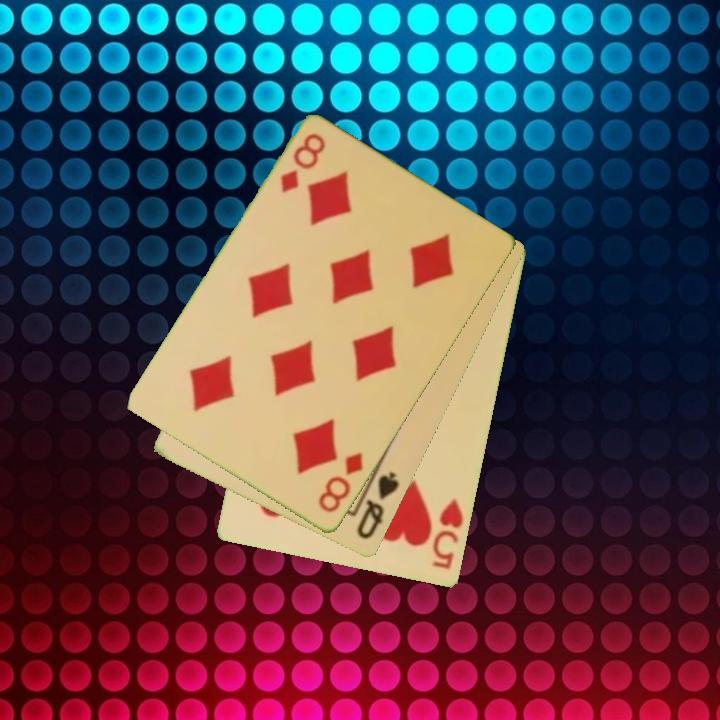5h: (429, 495, 467, 573)
8d: (314, 449, 367, 516), (277, 130, 329, 197)
Qs: (353, 469, 403, 543)
